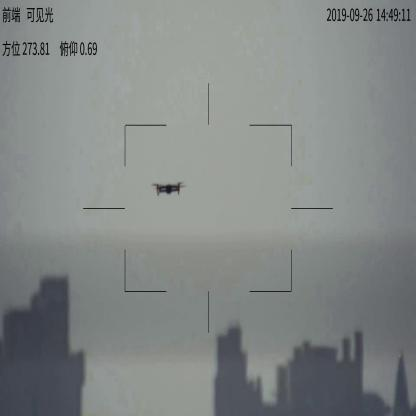uav: (149, 178, 188, 198)
